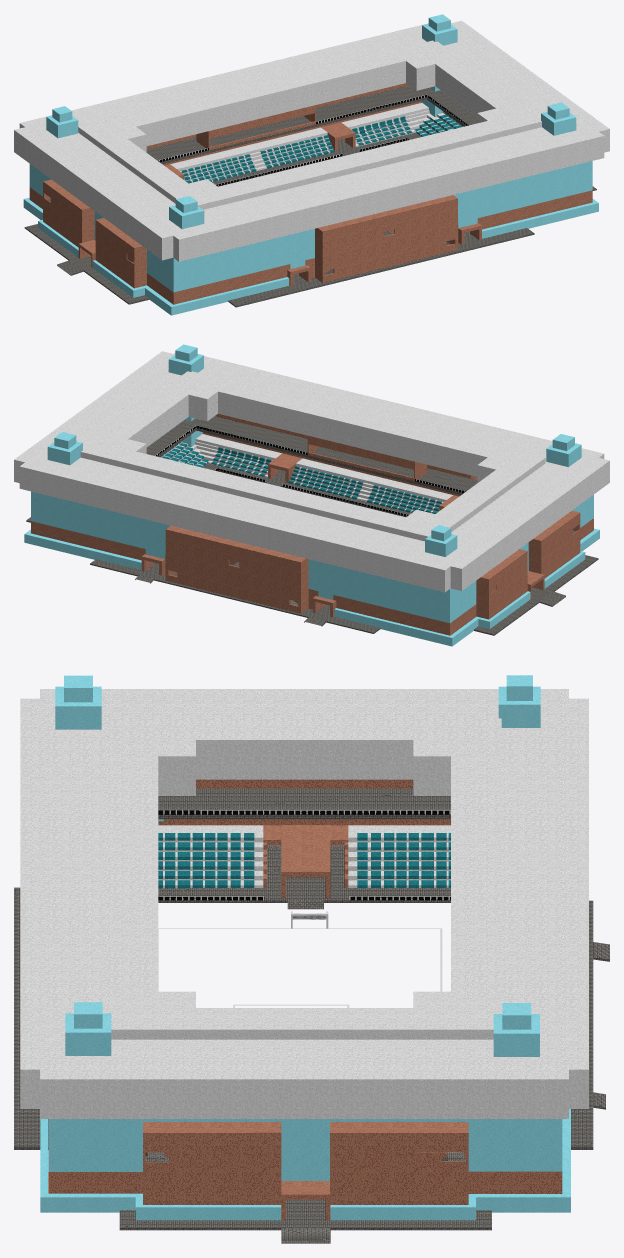
File: BGN_STADIAM.fbx
The picture shows the model from 3 angles, top to bottom: view 1: azimuth 30°, elevation 25°; view 2: azimuth 150°, elevation 25°; view 3: azimuth 270°, elevation 25°; orthographic projection. The views are drawn at different scales.
Visible parts, largest first — view 1: ROOF, FIELD, FLOOR, FENCES; view 2: ROOF, FIELD, FLOOR, FENCES; view 3: ROOF, FIELD, FLOOR, FENCES, SOCCER_MARK.
Part boxes in pixels (x1,y1,x2,y2): ROOF: (14, 14, 609, 261); FIELD: (23, 83, 598, 315); FLOOR: (24, 132, 596, 307); FENCES: (157, 94, 468, 186); ROOF: (14, 344, 609, 592); FIELD: (24, 413, 599, 646); FLOOR: (26, 463, 598, 635); FENCES: (155, 425, 466, 516); ROOF: (20, 675, 588, 1118); FIELD: (40, 779, 570, 1220); FLOOR: (14, 848, 609, 1243); FENCES: (158, 809, 450, 900); SOCCER_MARK: (158, 928, 442, 1007).
Bounding box in the file's own units: 13396 × 2749 × 7844.
9 materials, 9 textured.
